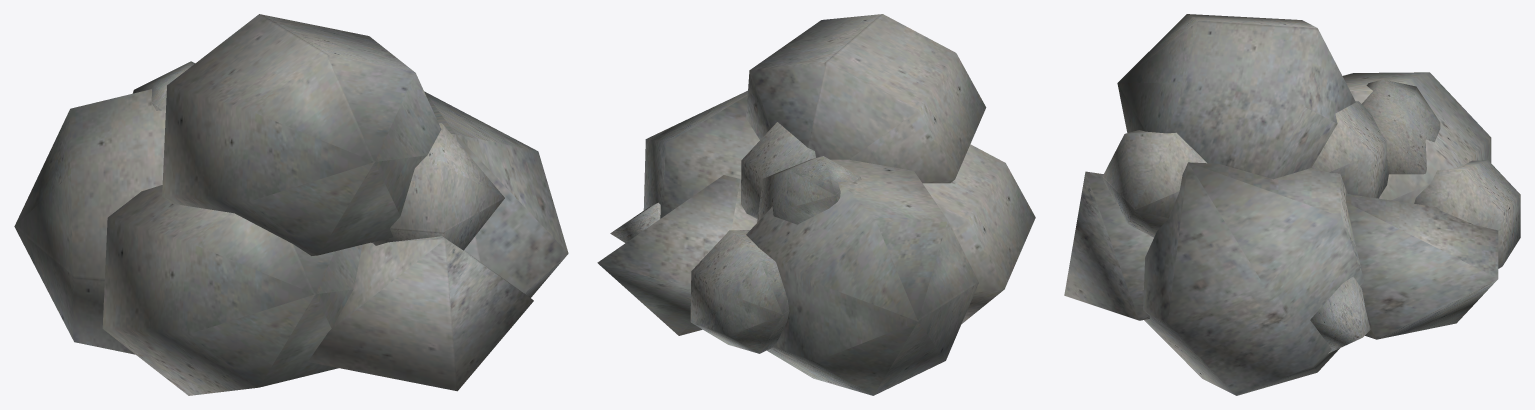
File: stone.obj
3 views of the same model, side by side, from view 1: azimuth 30°, elevation 25°; view 2: azimuth 150°, elevation 25°; view 3: azimuth 270°, elevation 25° (orthographic). The views are drawn at different scales.
Visible parts, largest first — view 1: Sphere011; view 2: Sphere011; view 3: Sphere011.
Part boxes in pixels (left/top/right/bottom): Sphere011: left=14, top=14, right=568, bottom=395; Sphere011: left=597, top=14, right=1035, bottom=395; Sphere011: left=1064, top=14, right=1520, bottom=395.
Size of the model in its own units: 83.27 by 65.5 by 87.55.
1 material, 1 textured.
